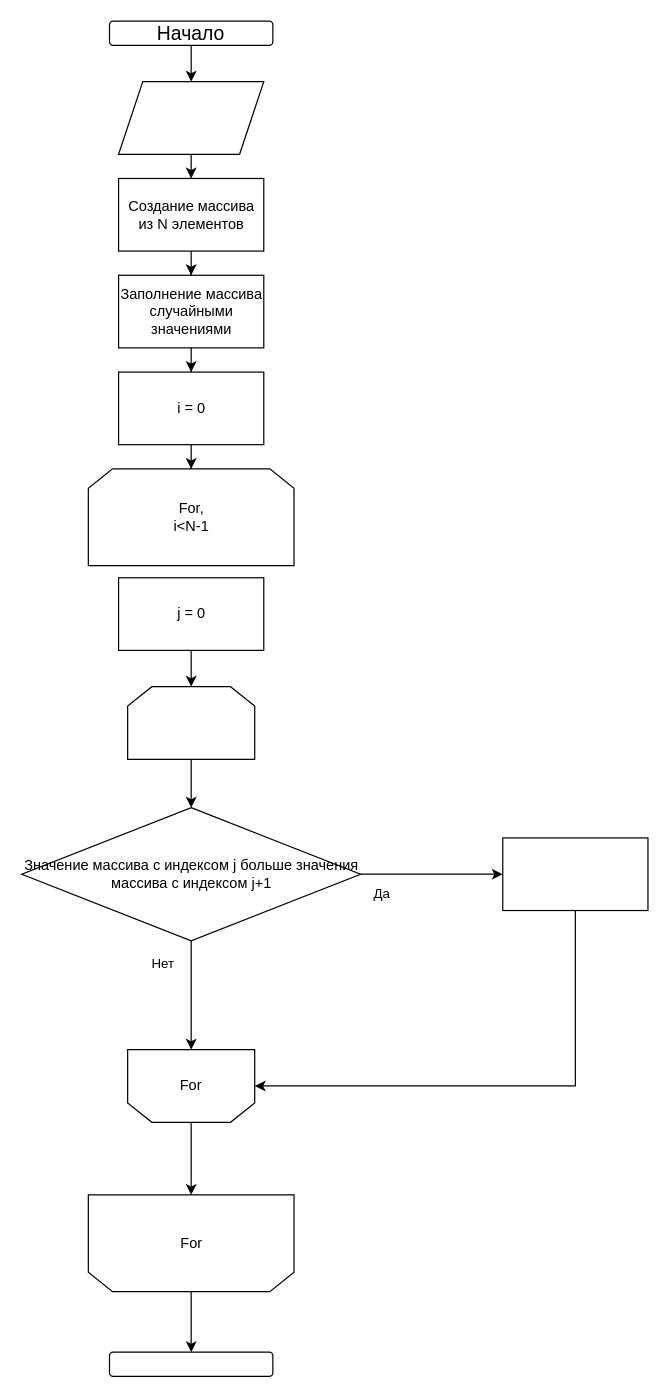
Some shapes in this 669 by 1398 pixel diagram are drawn without their labels. The shapes that lost their labels are listed below. From the top down, each one's centre as x and y in pixels, then its label:
At (190,117): "Ввод значения N".
At (190,722): "For, j<N-1".
At (575,874): "Поменять элементы местами".
At (190,1363): "Конец".
